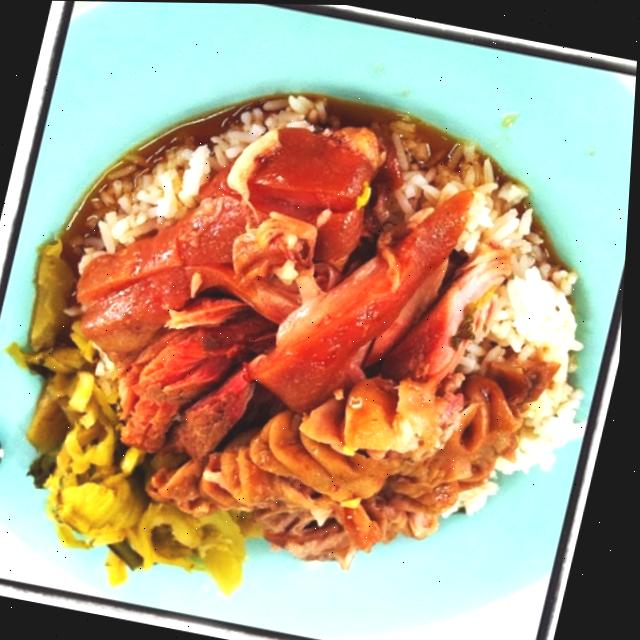猪肉菜式: (0, 26, 631, 637)
